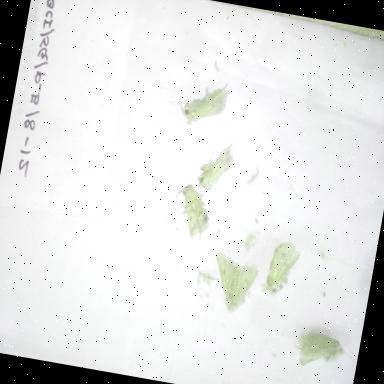abw: (163, 64, 237, 134), (202, 244, 266, 320), (165, 175, 220, 249), (256, 232, 310, 306), (291, 322, 360, 377), (188, 134, 240, 205)
